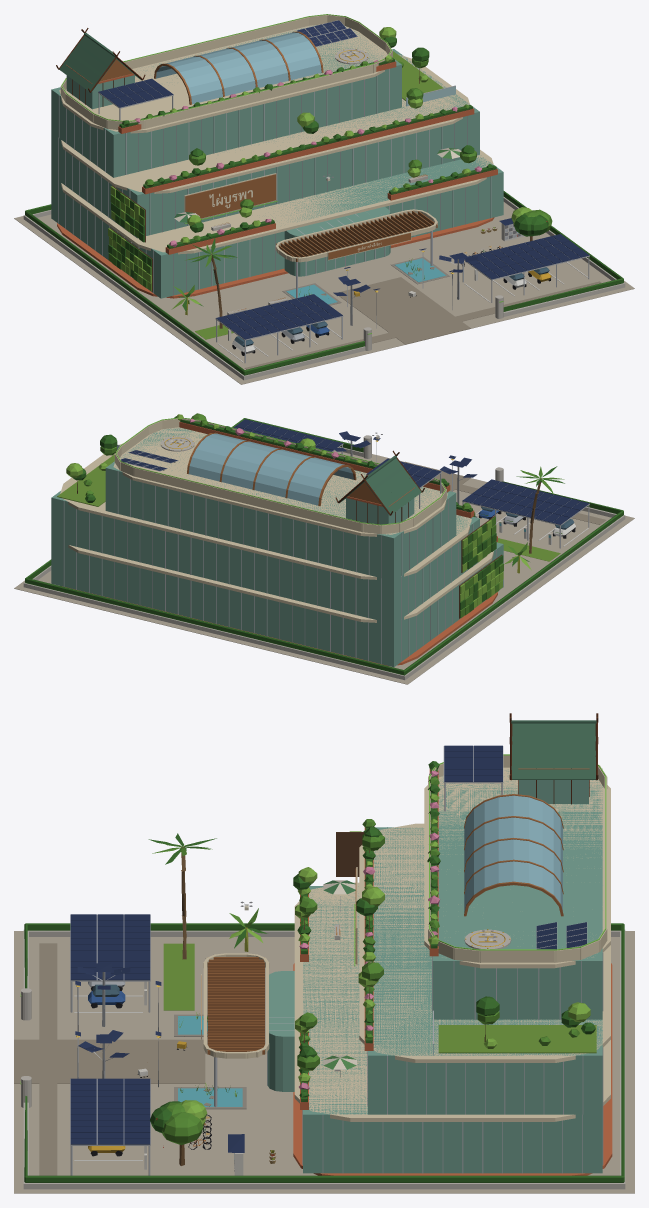
Rendered from store.glb.
3 views of the same model, one above another, from view 1: azimuth 30°, elevation 25°; view 2: azimuth 150°, elevation 25°; view 3: azimuth 270°, elevation 25° (orthographic). The views are drawn at different scales.
Parts seen in each view (by area): view 1: body, windows; view 2: body, windows; view 3: body, windows.
Boxes of the visible parts, x1,y1,x2,y2 form: body: (14,15,634,384); windows: (61,14,549,346); body: (14,413,634,684); windows: (115,417,574,537); body: (14,713,634,1193); windows: (20,754,606,1159).
Size of the model in its own units: 47.9 by 21.68 by 47.9.
